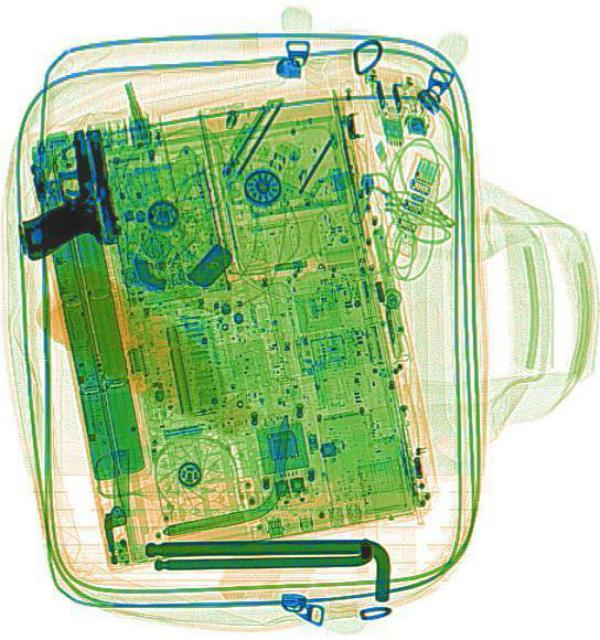Gun: (2, 124, 121, 260)
